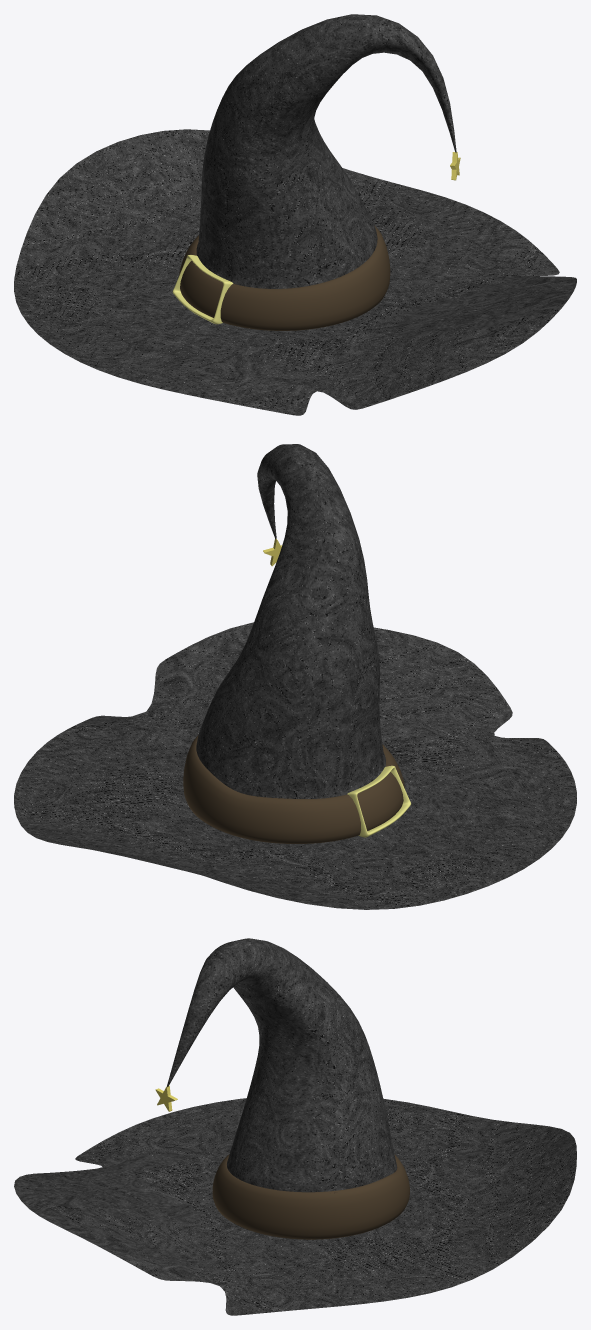
File: Witchhat_1.fbx
3 renders of one model, top to bottom at view 1: azimuth 30°, elevation 25°; view 2: azimuth 150°, elevation 25°; view 3: azimuth 270°, elevation 25°, orthographic. The views are drawn at different scales.
Visible parts, largest first — view 1: Witch Hat, Circle.001, Circle.002; view 2: Witch Hat, Circle.001, Circle.002; view 3: Witch Hat, Circle.001.
Part boxes in pixels (<box>): Witch Hat: <box>14,14,576,415</box>; Circle.001: <box>179,225,390,330</box>; Circle.002: <box>172,255,233,324</box>; Witch Hat: <box>14,444,576,909</box>; Circle.001: <box>183,735,404,843</box>; Circle.002: <box>347,765,411,837</box>; Witch Hat: <box>14,938,576,1315</box>; Circle.001: <box>212,1154,409,1239</box>.
Size of what is drawn, in the model's own units: 918 by 566 by 1024.
Materials: 4 (4 with a texture image).
